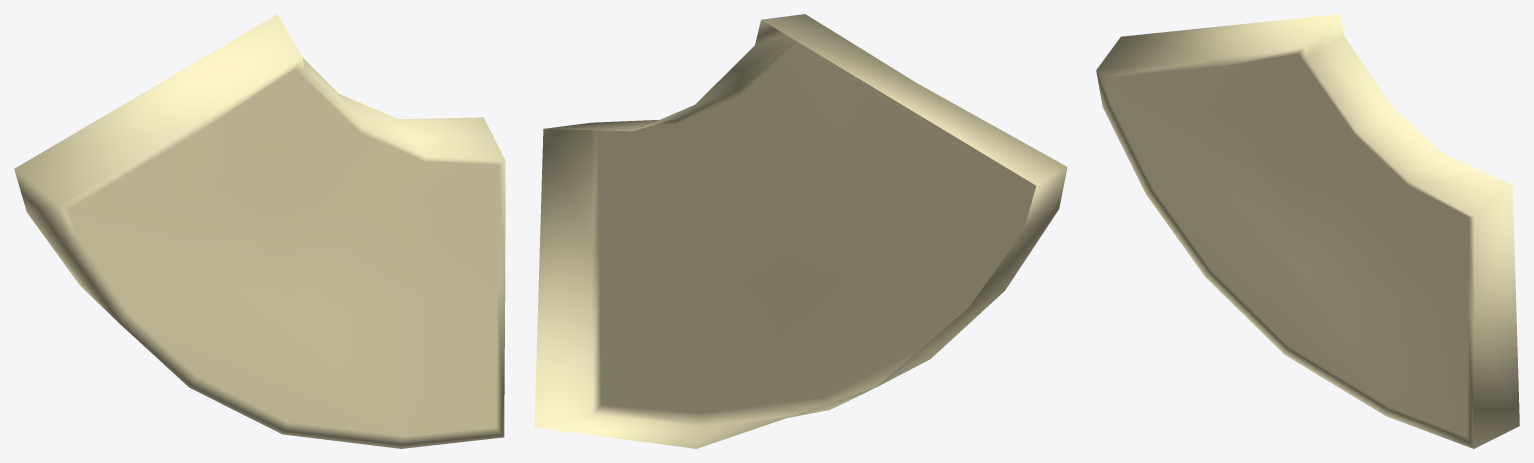
File: ui_radialMenu_5_botLeft.glb
3 renders of one model, left to right at view 1: azimuth 30°, elevation 25°; view 2: azimuth 150°, elevation 25°; view 3: azimuth 330°, elevation 25°, orthographic. The views are drawn at different scales.
Parts seen in each view (by area): view 1: main5_botLeft; view 2: main5_botLeft; view 3: main5_botLeft.
Boxes of the visible parts, box(x1,y1,x2,y2) form: main5_botLeft: box(14, 14, 505, 448); main5_botLeft: box(534, 14, 1067, 448); main5_botLeft: box(1096, 14, 1519, 448).
Bounding box in the file's own units: 0.9712 × 0.8691 × 0.1333.
